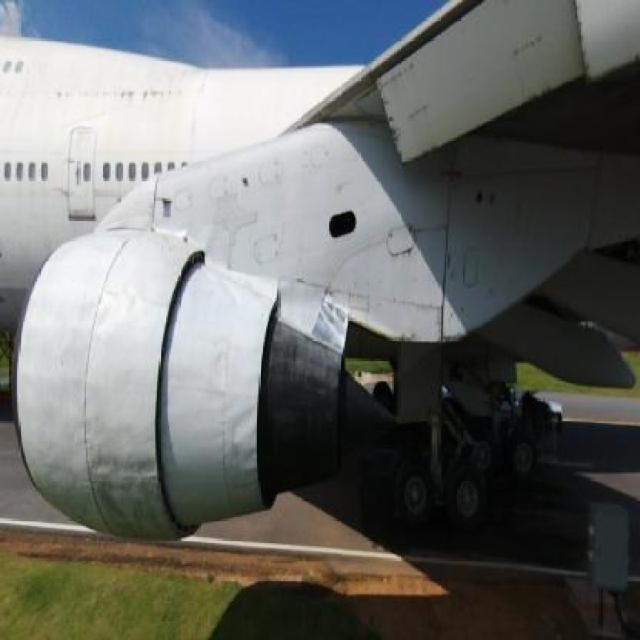Scartch: (93, 422, 156, 541), (62, 78, 183, 105)
